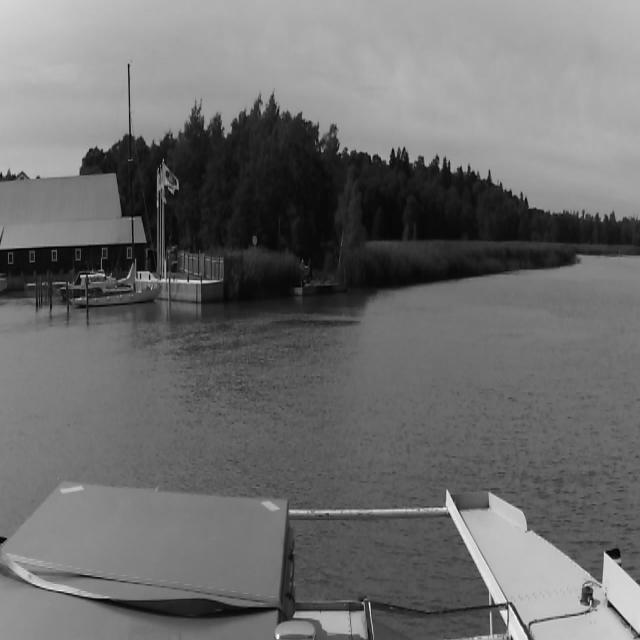ship: (73, 55, 159, 304)
